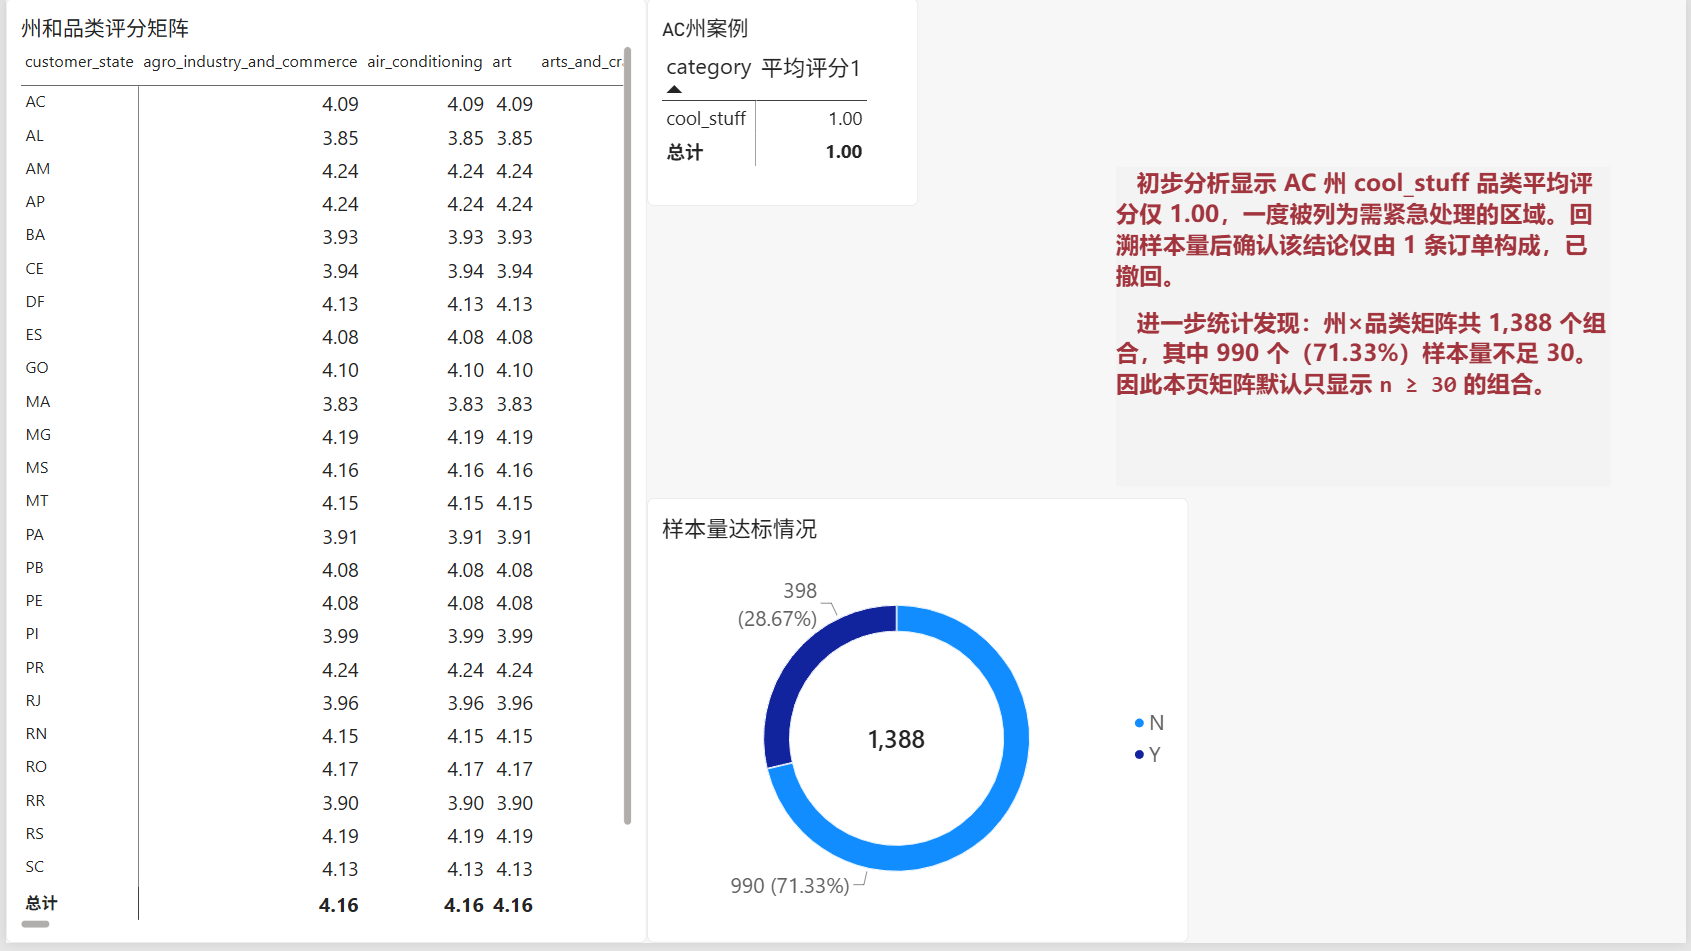

This screenshot's page, from the dashboard's own definition file:
{"tool":"powerbi","page":{"name":"数据质量与小样本风险","canvas":[1920,1080],"ordinal":4},"visuals":[{"type":"pivotTable","title":"州和品类评分矩阵","fields":{"Columns":["agg_state_category.category"],"Rows":["fact_orders.customer_state"],"Values":["fact_orders.平均评分"]},"box":[0,0,732,1080],"z":0},{"type":"donutChart","title":"样本量达标情况","fields":{"Category":["agg_state_category.meets_threshold"],"Y":["CountNonNull(agg_state_category.meets_threshold)"]},"box":[732.7,571.8,618.3,508.3],"z":1000},{"type":"pivotTable","title":"AC州案例","fields":{"Rows":["fact_order_items.category"],"Values":["fact_orders.平均评分1"]},"box":[732.7,0,309.3,237.5],"z":2000},{"type":"textbox","box":[1268.5,192.2,565.5,365.6],"z":3000}]}

Visuals, with their boxes in screenshot pixels (x1, y1, x2, y2), scaled from the page's 1920x1080 canvas onto the 1691x951 screenshot:
"州和品类评分矩阵" pivotTable: [0, 0, 645, 950]
"样本量达标情况" donutChart: [645, 504, 1190, 950]
"AC州案例" pivotTable: [645, 0, 918, 209]
textbox: [1117, 169, 1615, 491]
